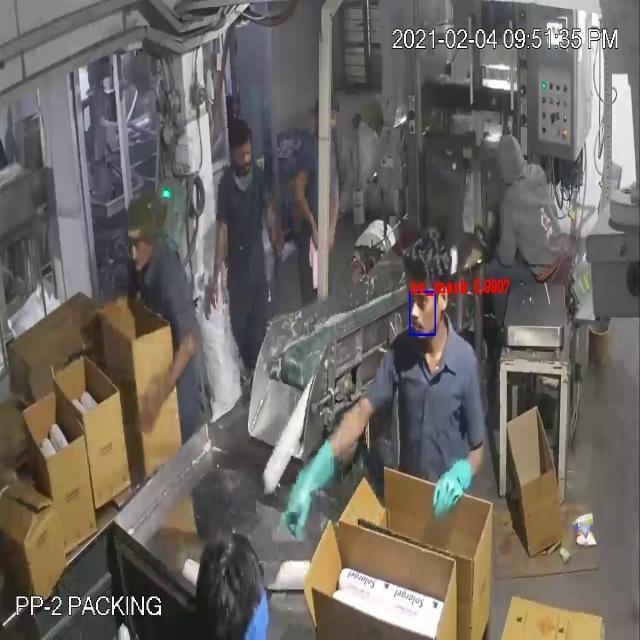No_Gloves: (24, 74, 453, 490)
